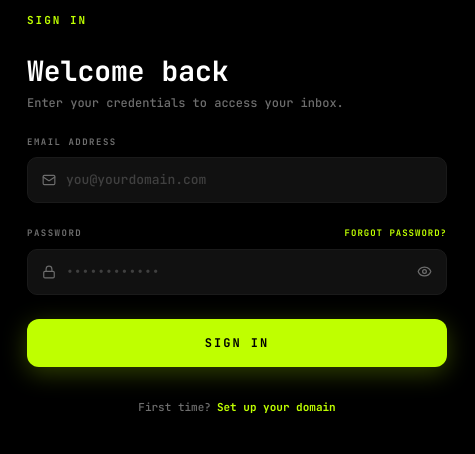
it: LoginPage › flags missing password
Type "user@example.com" into the field with placeholder "you@yourdomain.com" at (249, 180), box [66,170,432,190]
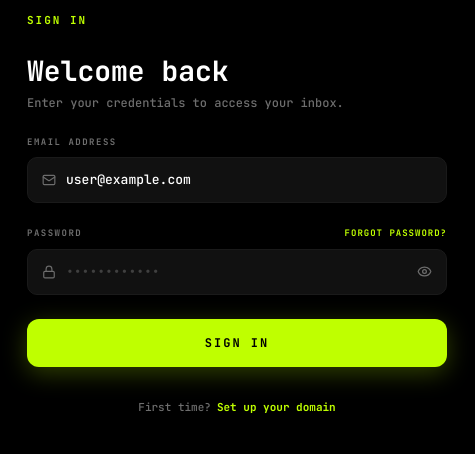
Submit the form with placeholder "you@yourdomain.com"
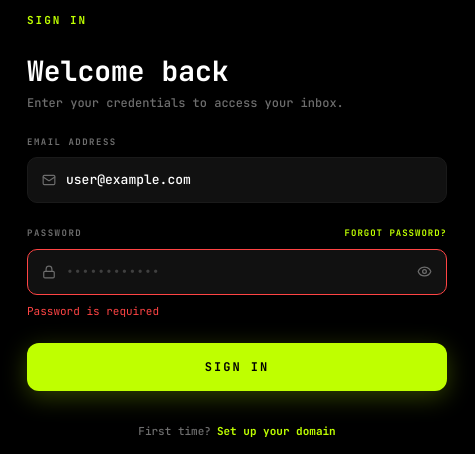
Check: the text "Password is required" is shown, box [27,304,159,318]
